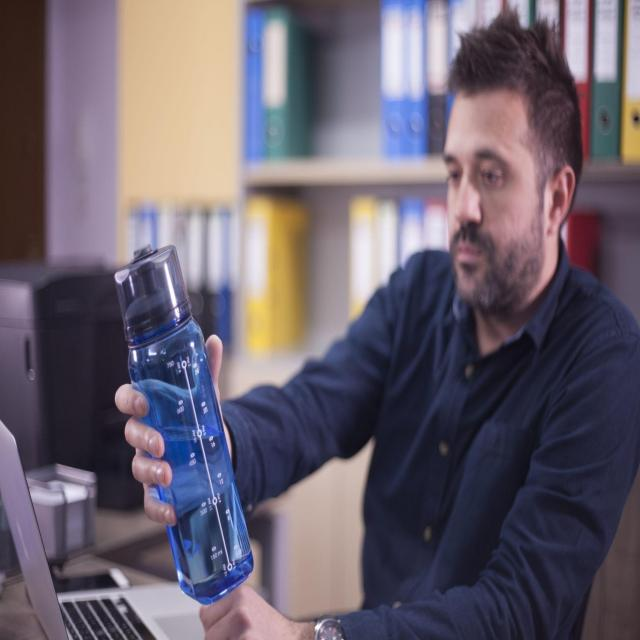gym bottle: (115, 243, 253, 604)
